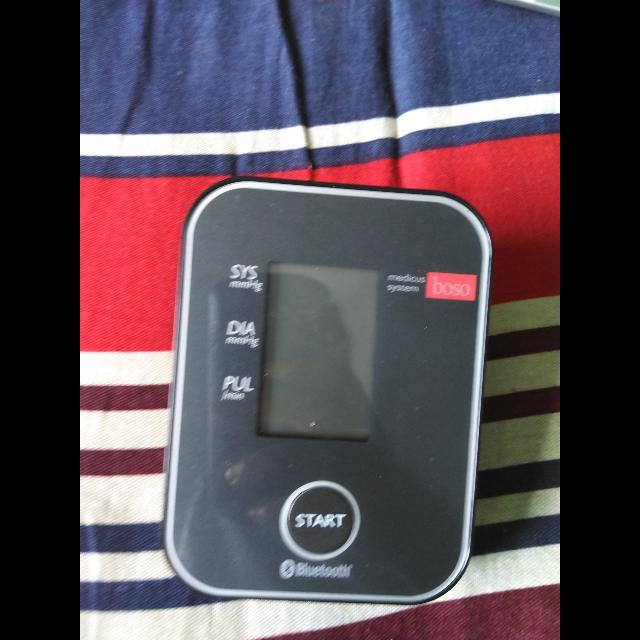Blood-Pressure-Monitor: (173, 173, 493, 602)
